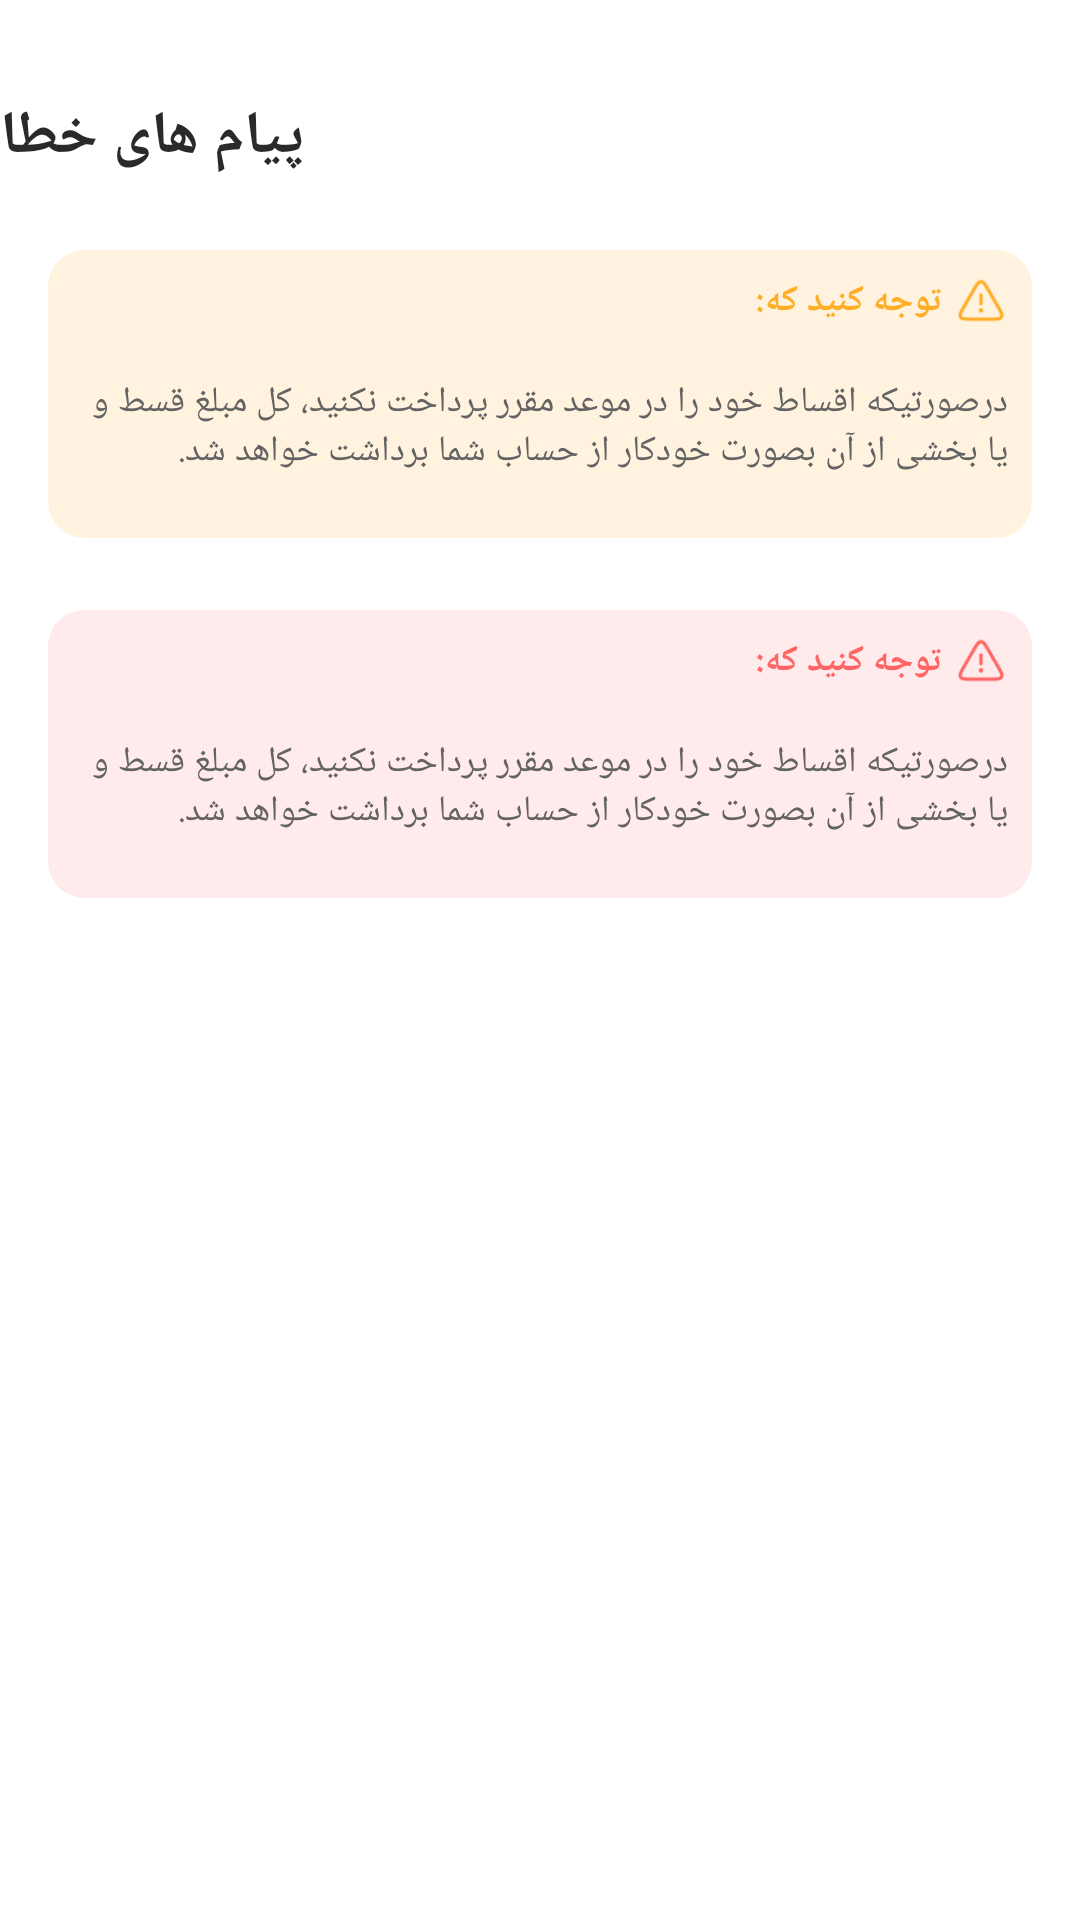

Icons on this 1080x1920 Android screen, each with the point to tap as (x=x, y=y):
alert: (x=981, y=300), (x=981, y=660)
